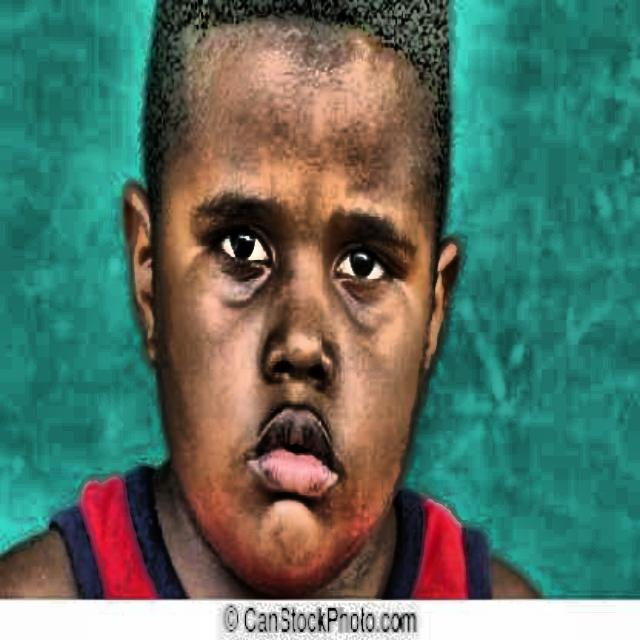sad: (120, 1, 470, 608)
